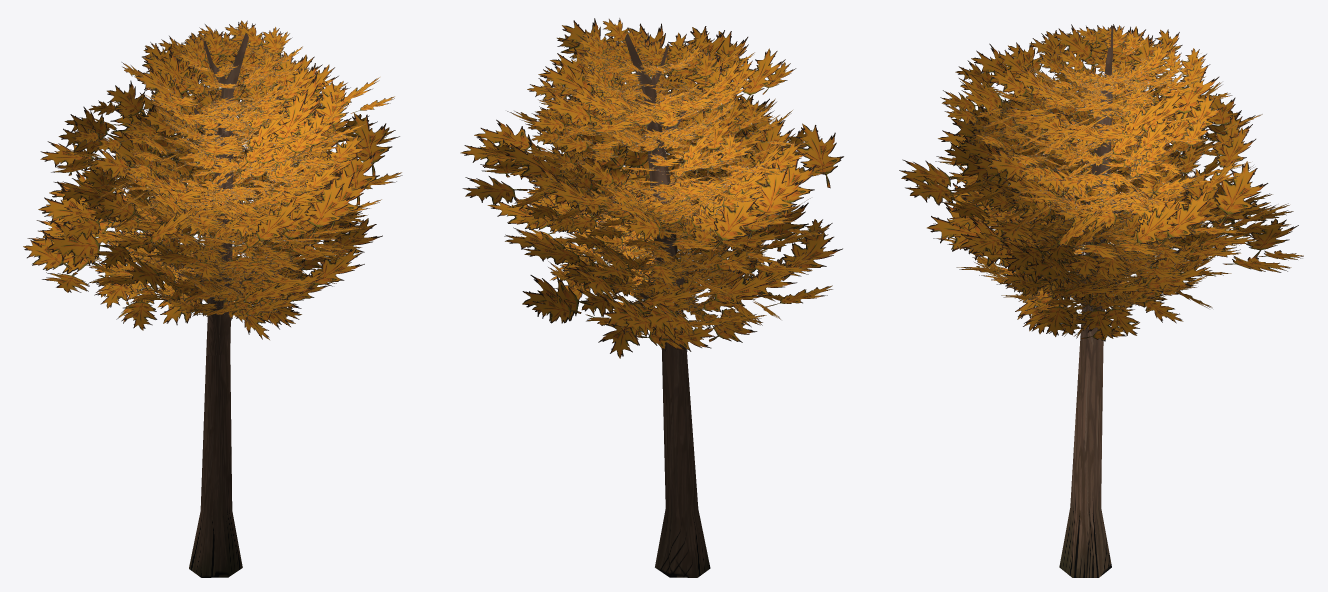
File: ybTreeInk.fbx
3 renders of one model, left to right at view 1: azimuth 30°, elevation 25°; view 2: azimuth 150°, elevation 25°; view 3: azimuth 270°, elevation 25°, orthographic. The views are drawn at different scales.
Visible parts, largest first — view 1: Plane.001; view 2: Plane.001; view 3: Plane.001.
Boxes of the visible parts, x1,y1,x2,y2 form: Plane.001: (23,20,402,577); Plane.001: (460,18,843,577); Plane.001: (899,24,1303,577).
Size of the model in its own units: 1037 by 1412 by 1004.
